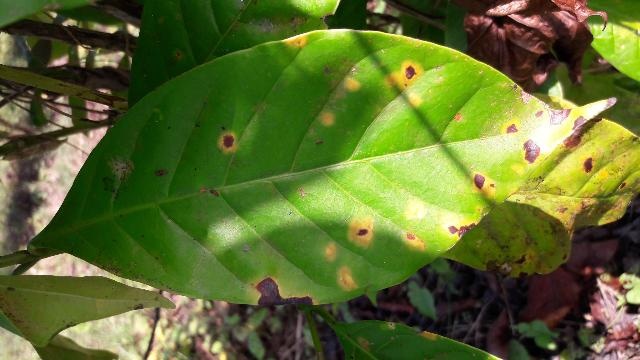rust_level_2: (28, 26, 613, 303)
